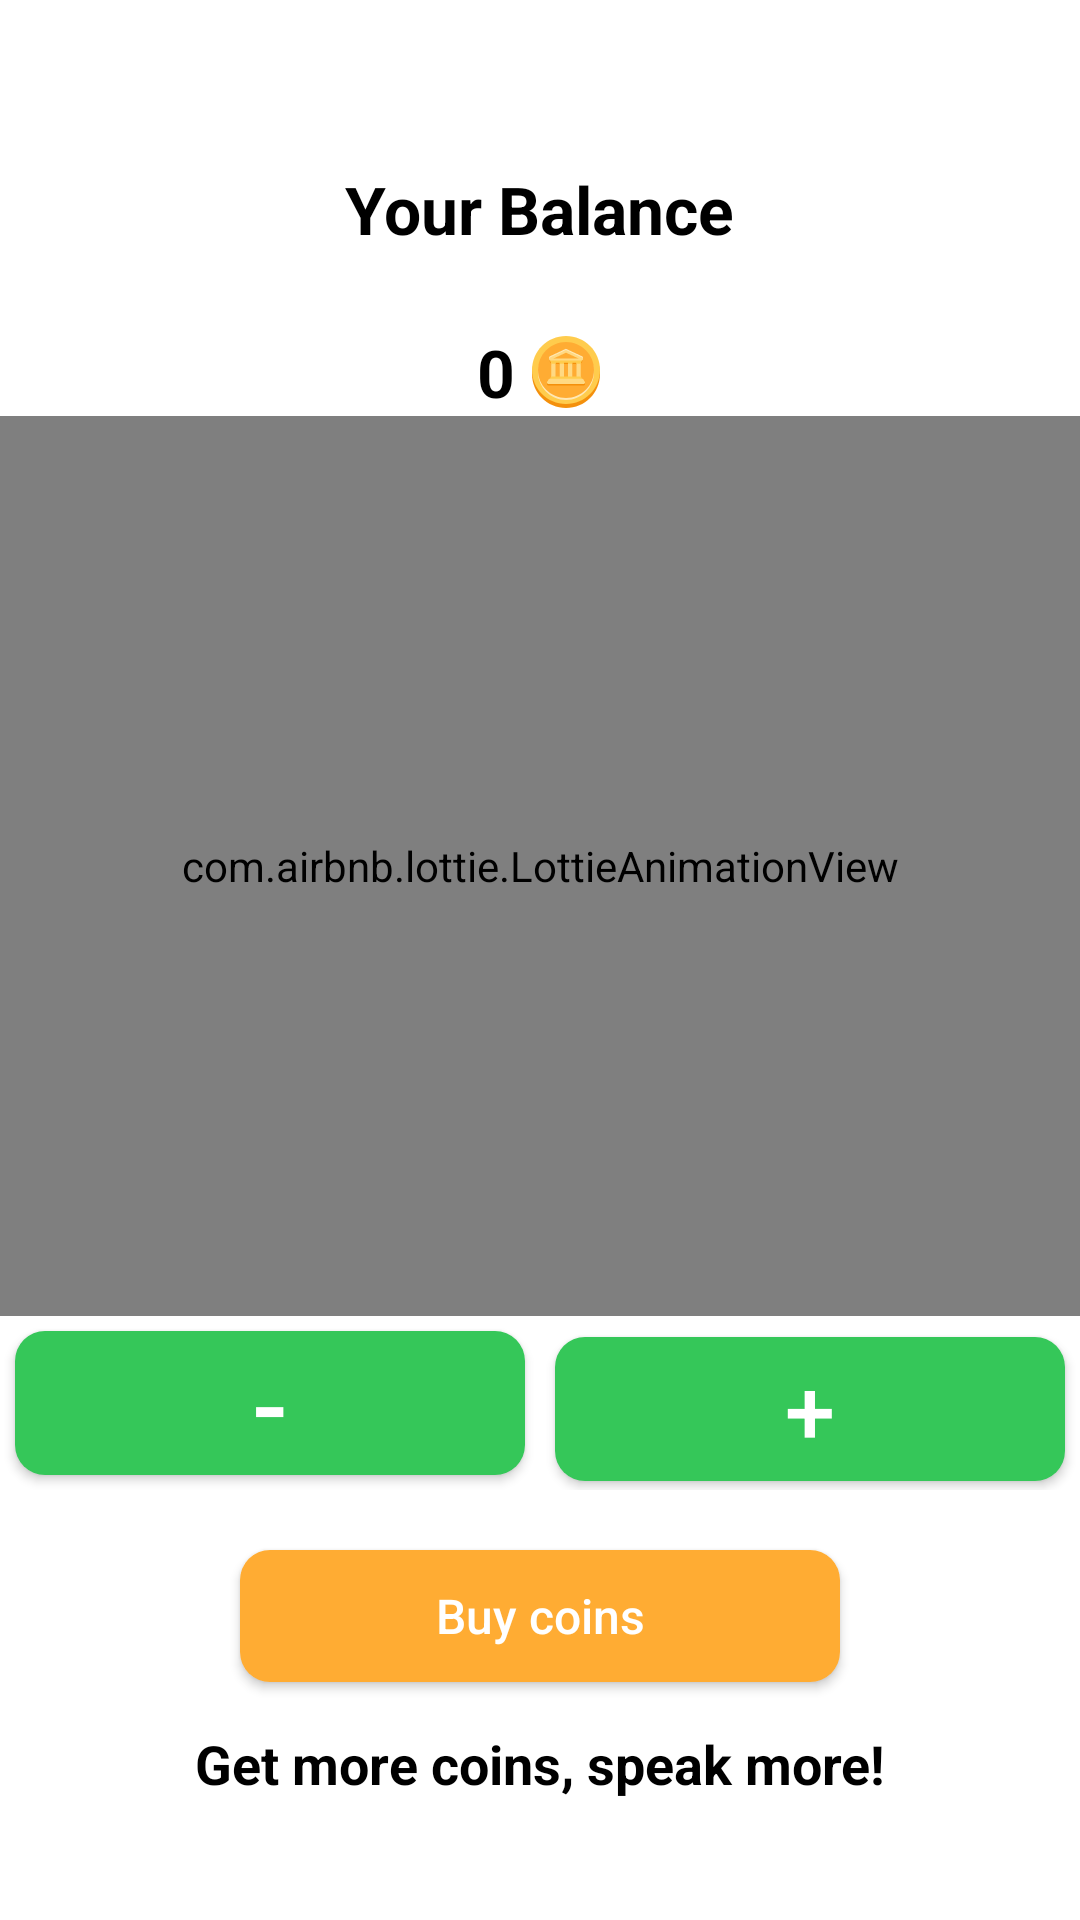

Where icons sit on this 1080*1920 app screen, as (x1, y1, x2, y2):
coin: (532, 336, 600, 408)
